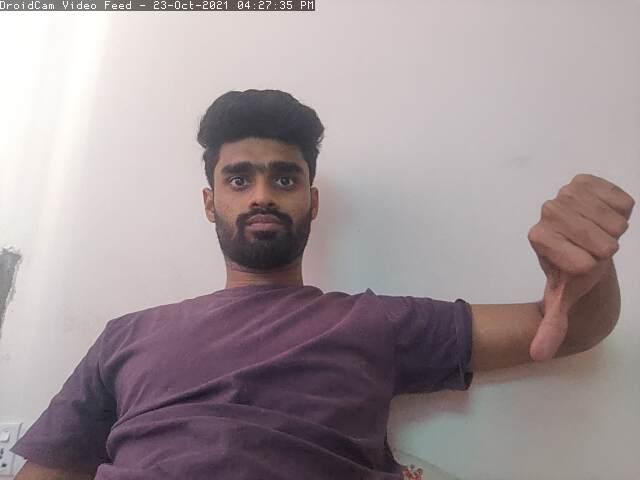ThumbsDown: (522, 169, 637, 361)
